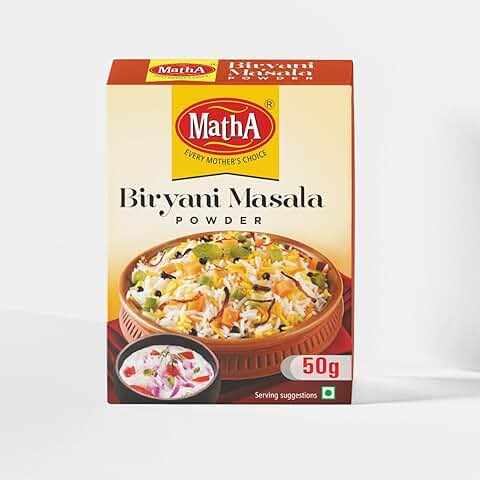Biryani: (106, 56, 365, 410)
